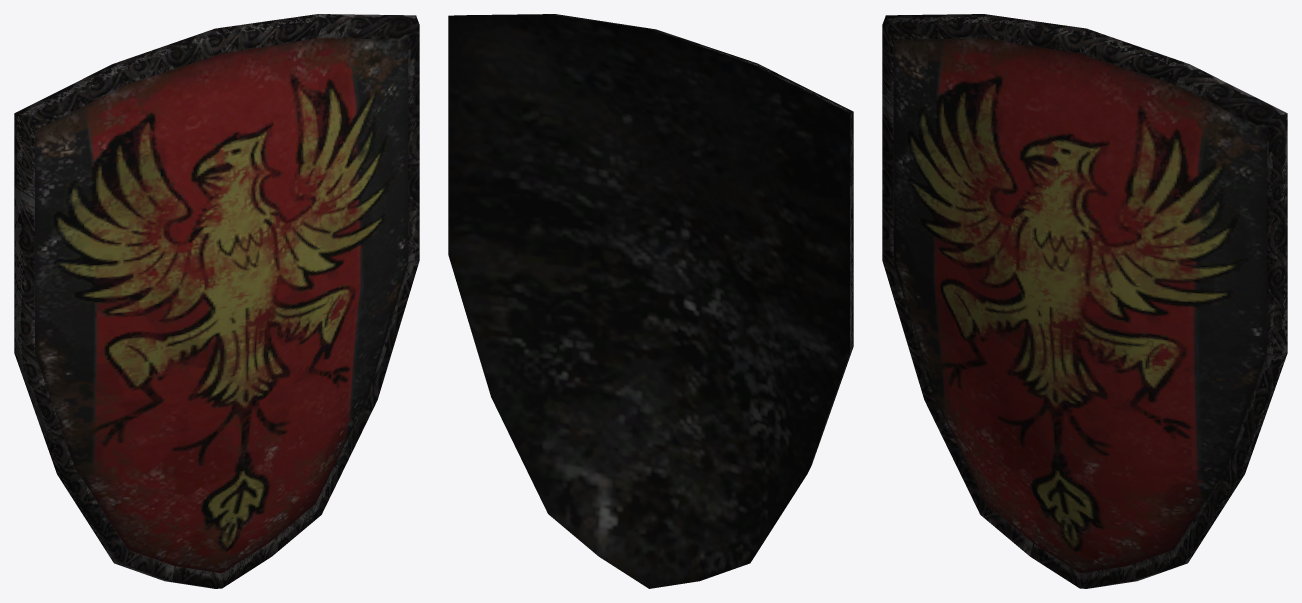
File: shield02.dae
3 views of the same model, side by side, from view 1: azimuth 30°, elevation 25°; view 2: azimuth 150°, elevation 25°; view 3: azimuth 330°, elevation 25° (orthographic).
Parts seen in each view (by area): view 1: polySurface4; view 2: polySurface4; view 3: polySurface4.
Boxes of the visible parts, bbox=[...] form: polySurface4: bbox=[14, 14, 419, 588]; polySurface4: bbox=[448, 14, 853, 588]; polySurface4: bbox=[882, 14, 1287, 588].
Size of the model in its own units: 0.9909 by 1.32 by 0.1455.
